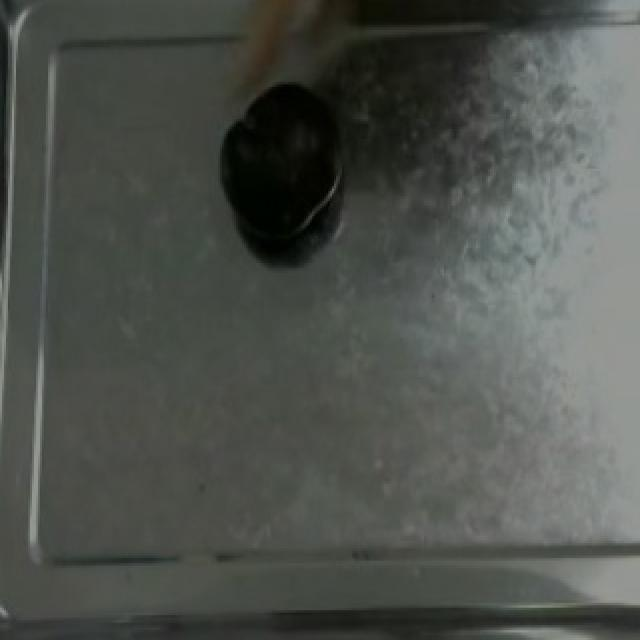Fruit: (214, 77, 344, 253)
